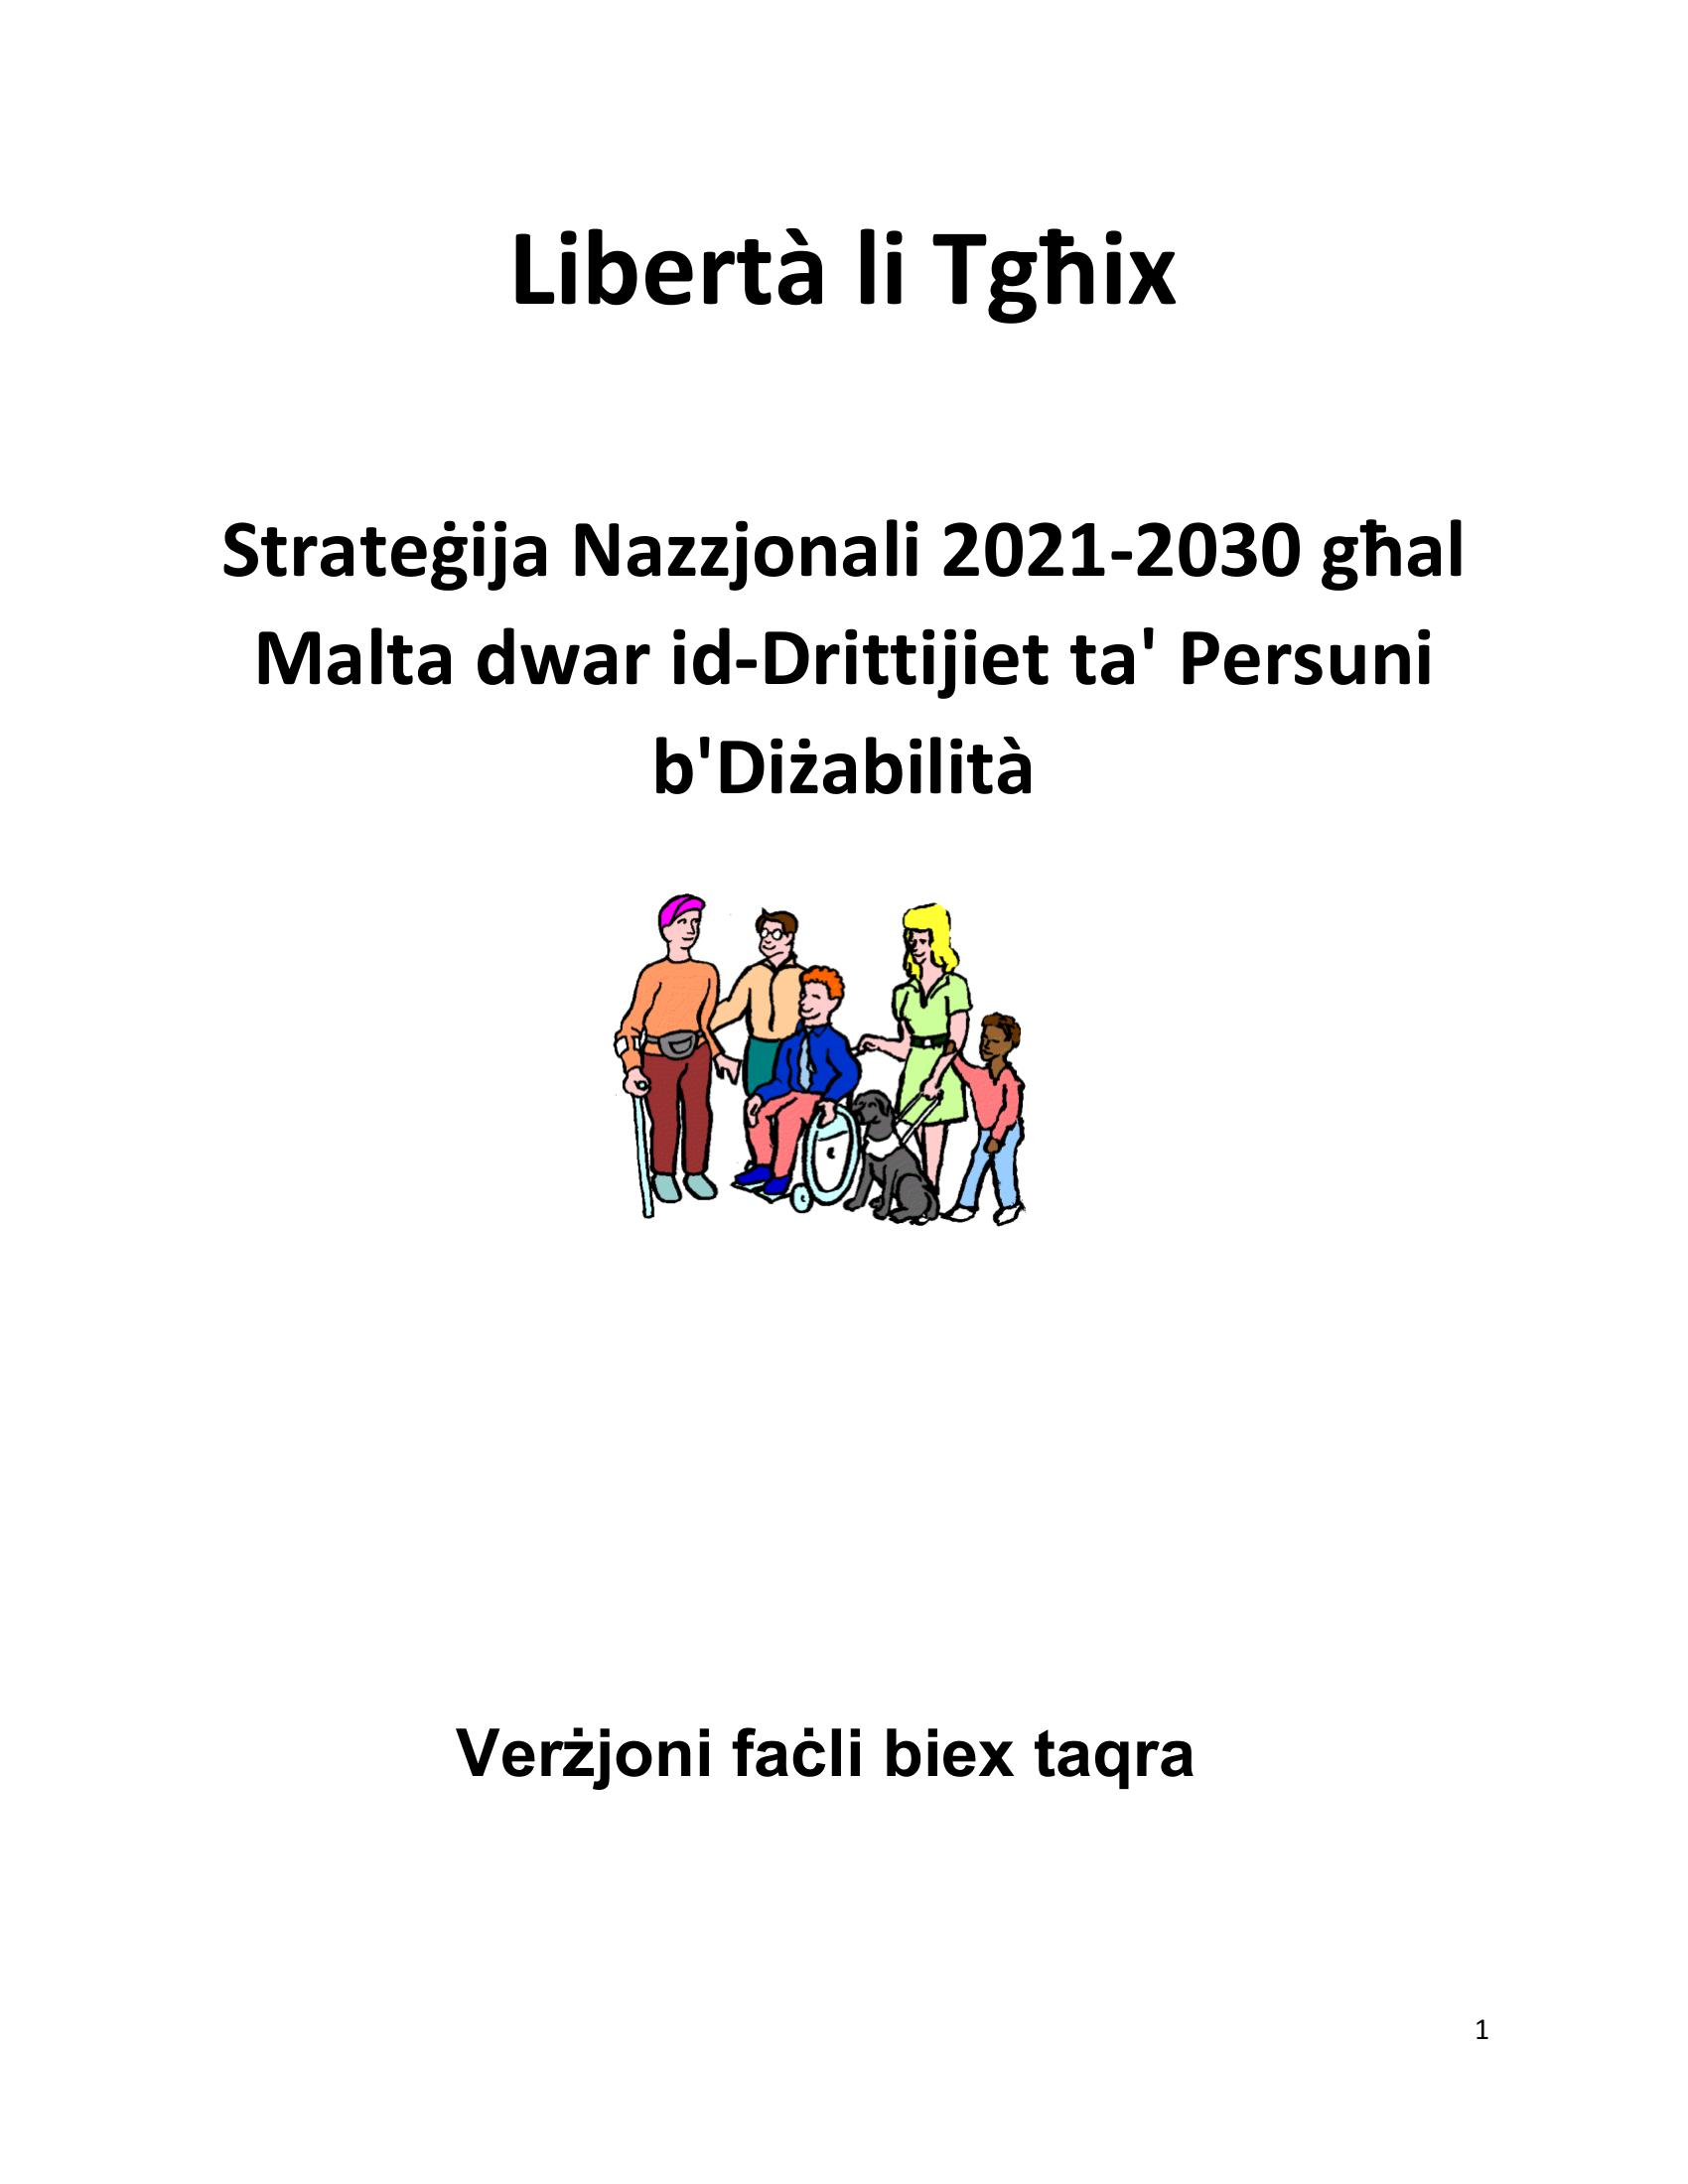text: (177, 172, 1500, 847), (408, 1673, 1232, 1824)
